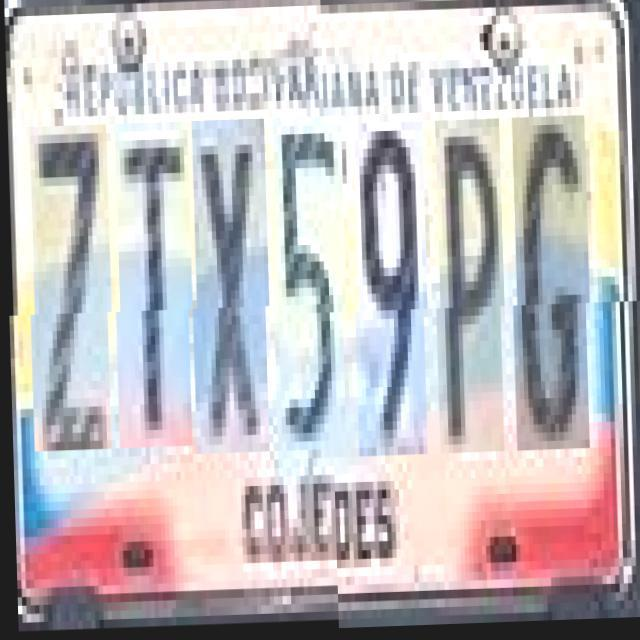5: (272, 126, 348, 462)
9: (353, 124, 429, 460)
G: (511, 120, 591, 454)
P: (434, 122, 506, 457)
T: (114, 130, 194, 458)
X: (191, 129, 271, 464)
Z: (28, 133, 114, 460)
